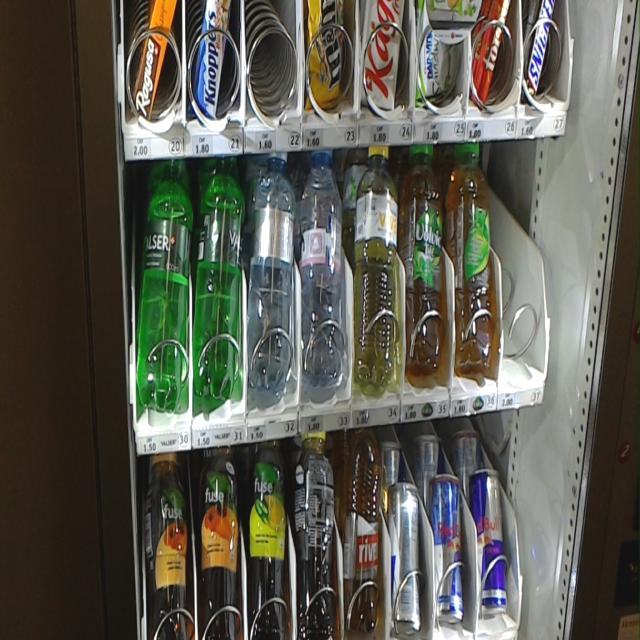darwida_sandwich____7610032065170: (416, 0, 463, 107)
evian___50__3068320353500: (301, 147, 345, 383)
fuse_lemon__50__5449000235947: (293, 427, 335, 638), (247, 439, 289, 639)
fuse_peach__50__5449000236623: (146, 449, 192, 639), (197, 445, 239, 639)
kagi___50__7610046000259: (360, 0, 402, 112)
knoppers_riegel____4035800488808: (192, 0, 230, 119)
mnms_gelb__45__40111445: (304, 0, 344, 112)
ragusa___50__76401121: (130, 0, 177, 120)
redbull___33__90162909: (469, 466, 507, 610), (386, 484, 420, 638), (429, 472, 461, 619)
rivella_rot__50__7610097111072: (339, 424, 381, 630)
snickers___50__5000159461122: (519, 0, 556, 99)
torino___46__76415272: (472, 0, 509, 105)
valser_classic__50__76404160: (138, 159, 191, 409), (195, 155, 243, 393)
valser_still__50__7610335002575: (247, 154, 294, 387)
valser_vivabirne__50__7610335001530: (354, 143, 401, 381)
volvic_teeminze__50__3057640335648: (449, 141, 492, 375), (402, 142, 443, 372)
